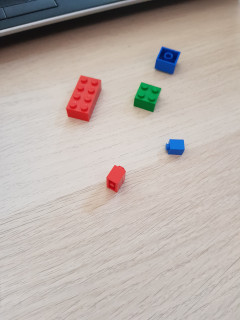1x1 blue: (166, 138, 185, 155)
1x2 red: (105, 165, 127, 192)
2x2 blue: (153, 46, 181, 74)
2x2 green: (133, 81, 161, 114)
2x4 red: (64, 74, 101, 121)
